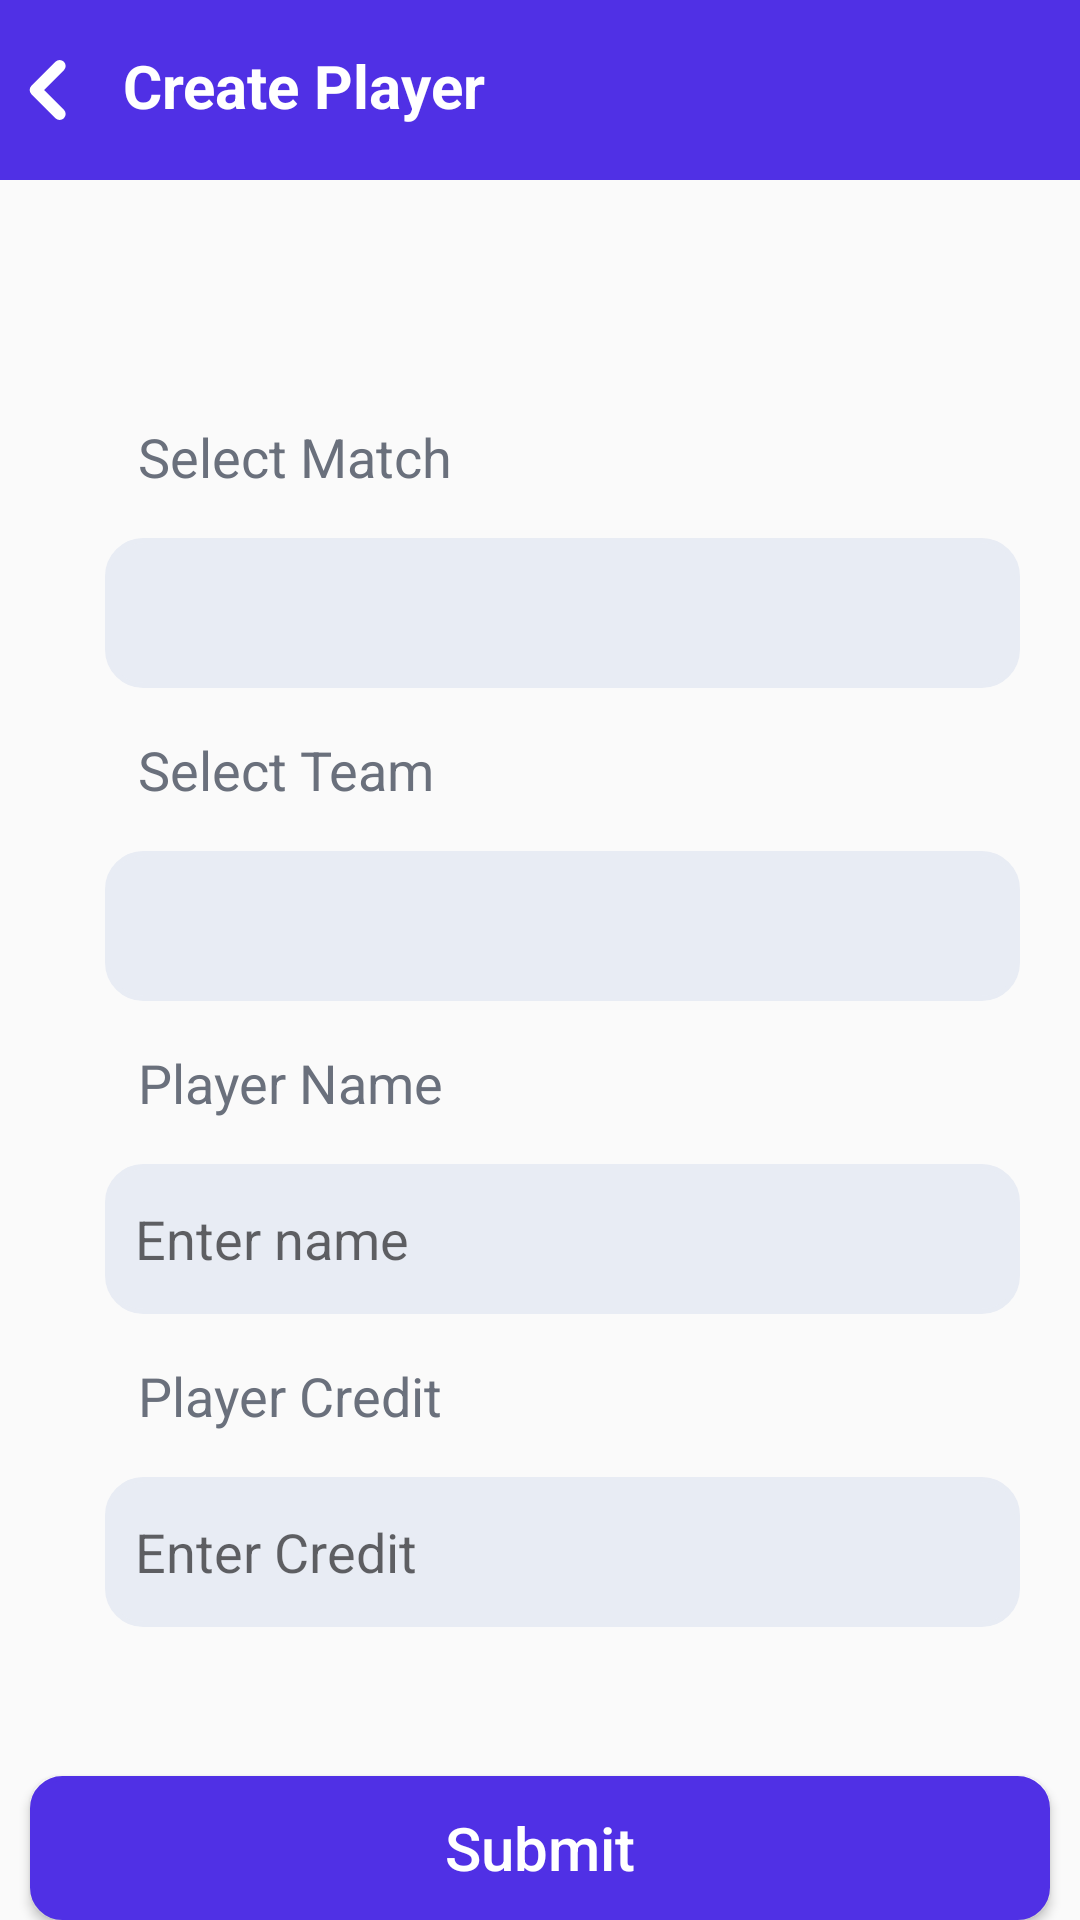

Point at icon controls on the screen. Image size 1080*1920, points as (x,y).
back arrow: (47,90)
